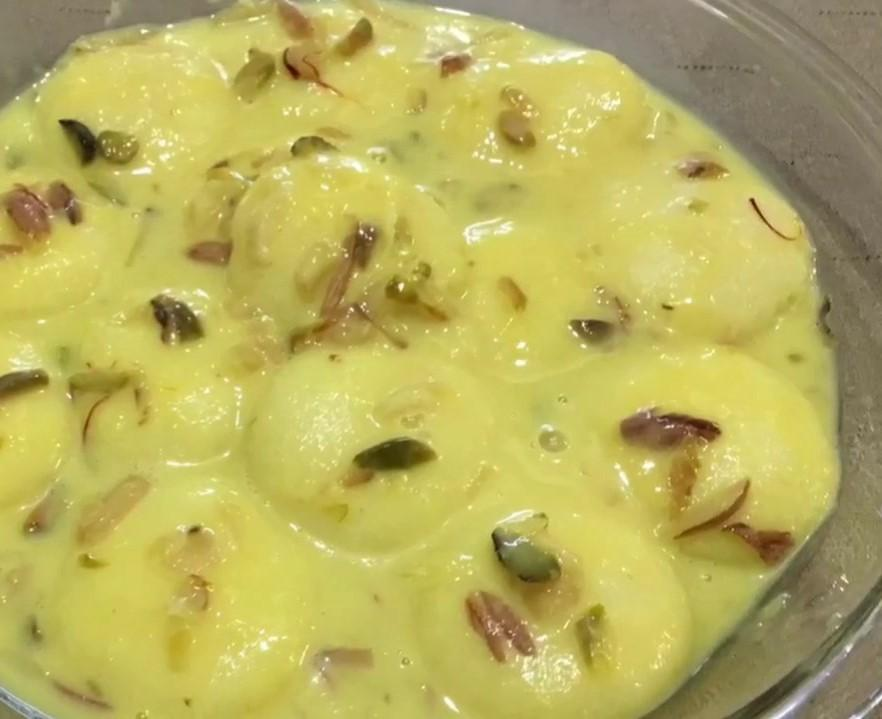RasMalai: (0, 0, 840, 719)
